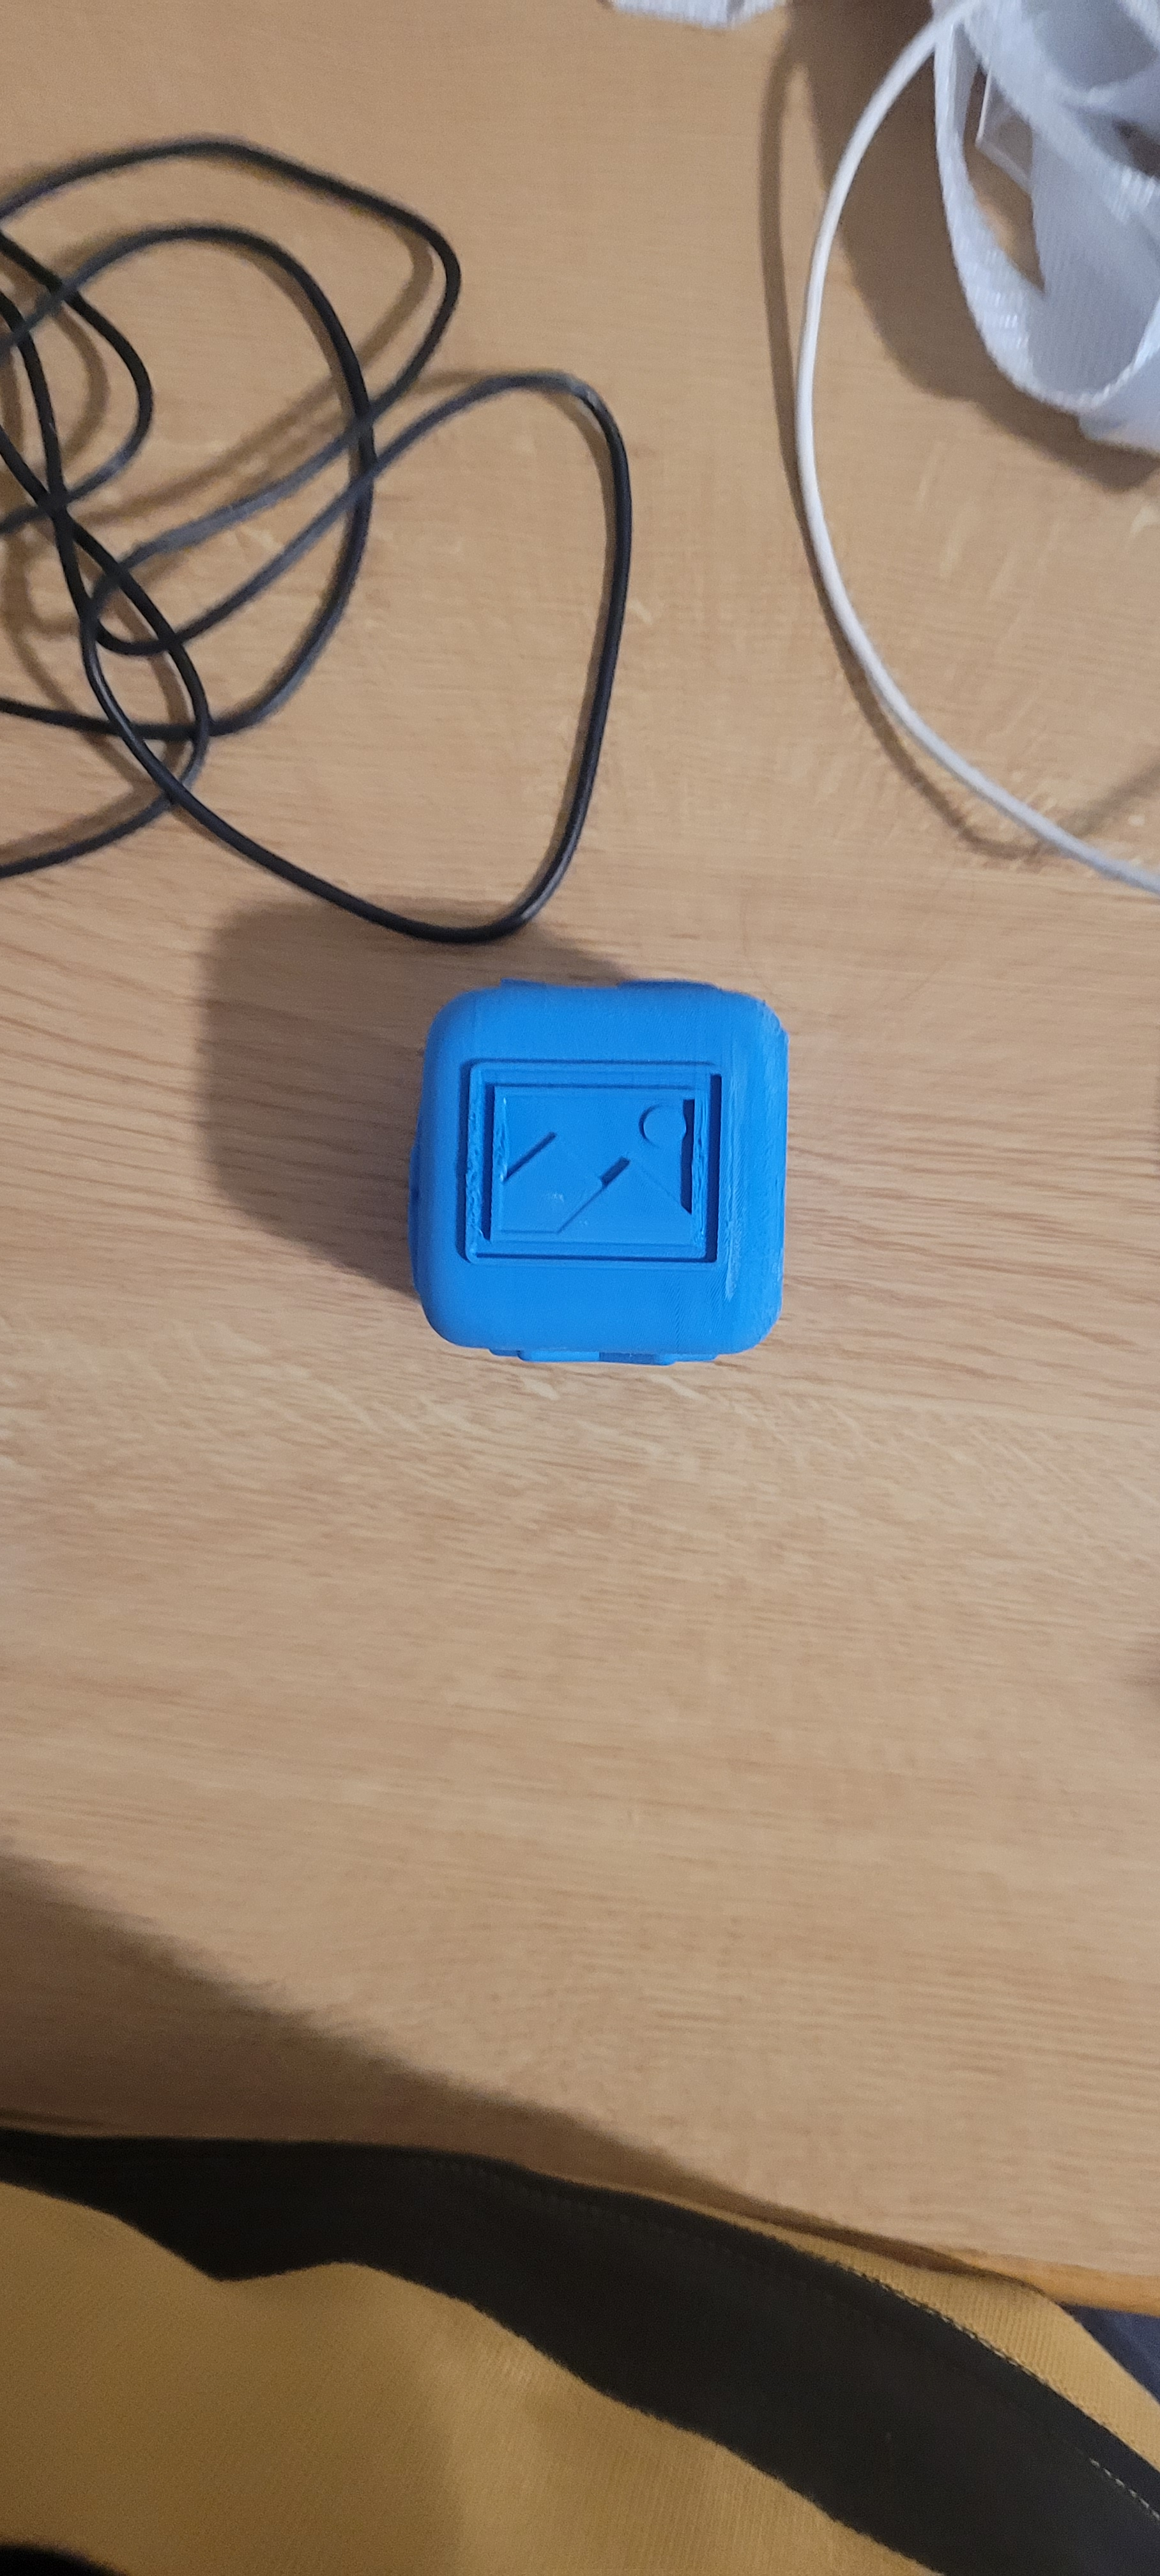Story: (444, 1027, 731, 1281)
